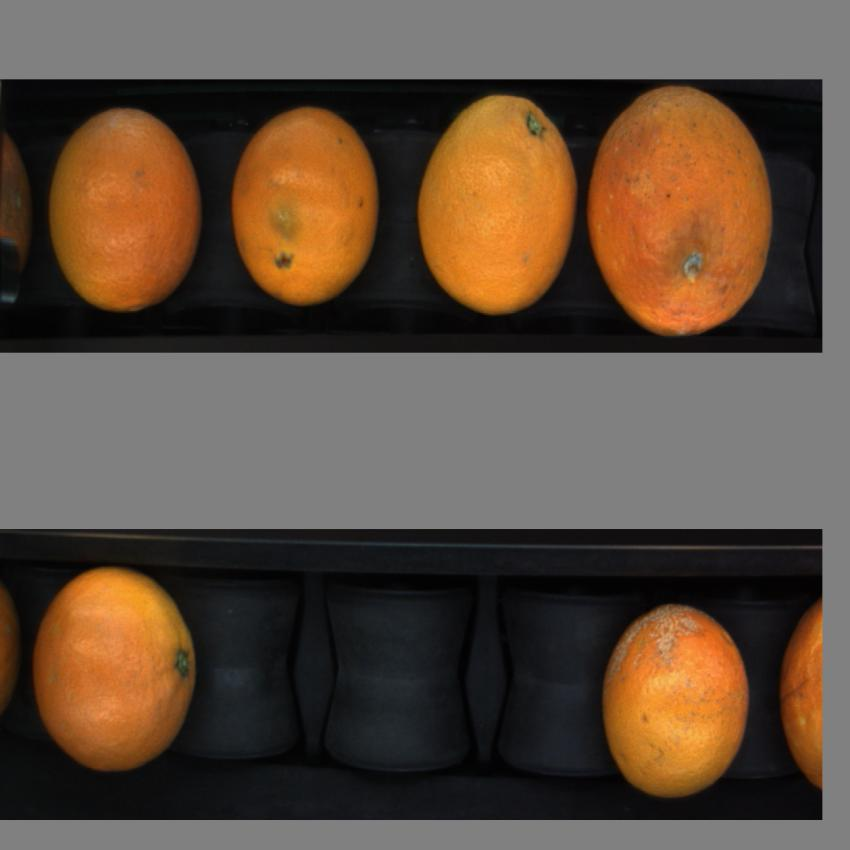Buen estado: (585, 84, 786, 344), (26, 556, 208, 782), (412, 86, 582, 321), (42, 98, 212, 319), (595, 591, 763, 808), (225, 97, 385, 317), (772, 600, 822, 798)
